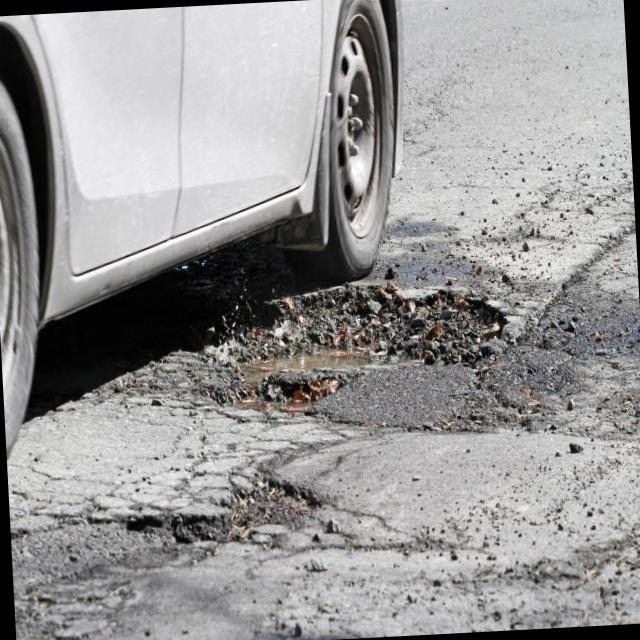Pothole: (178, 284, 505, 425), (127, 467, 320, 549)
